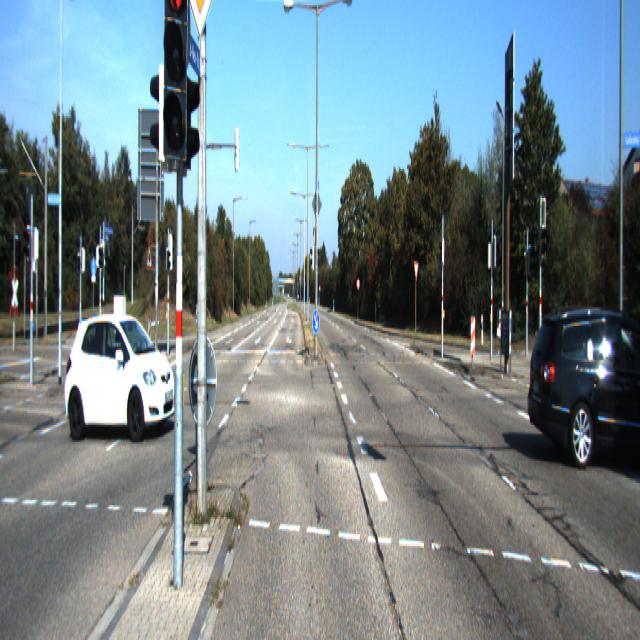Car: (524, 304, 640, 474), (64, 302, 179, 439)
